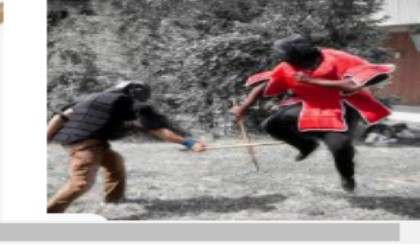baston_e: (230, 101, 258, 162), (184, 140, 279, 152)
baston_v: (280, 138, 287, 145), (176, 146, 182, 153), (230, 95, 237, 101), (251, 161, 259, 165)
